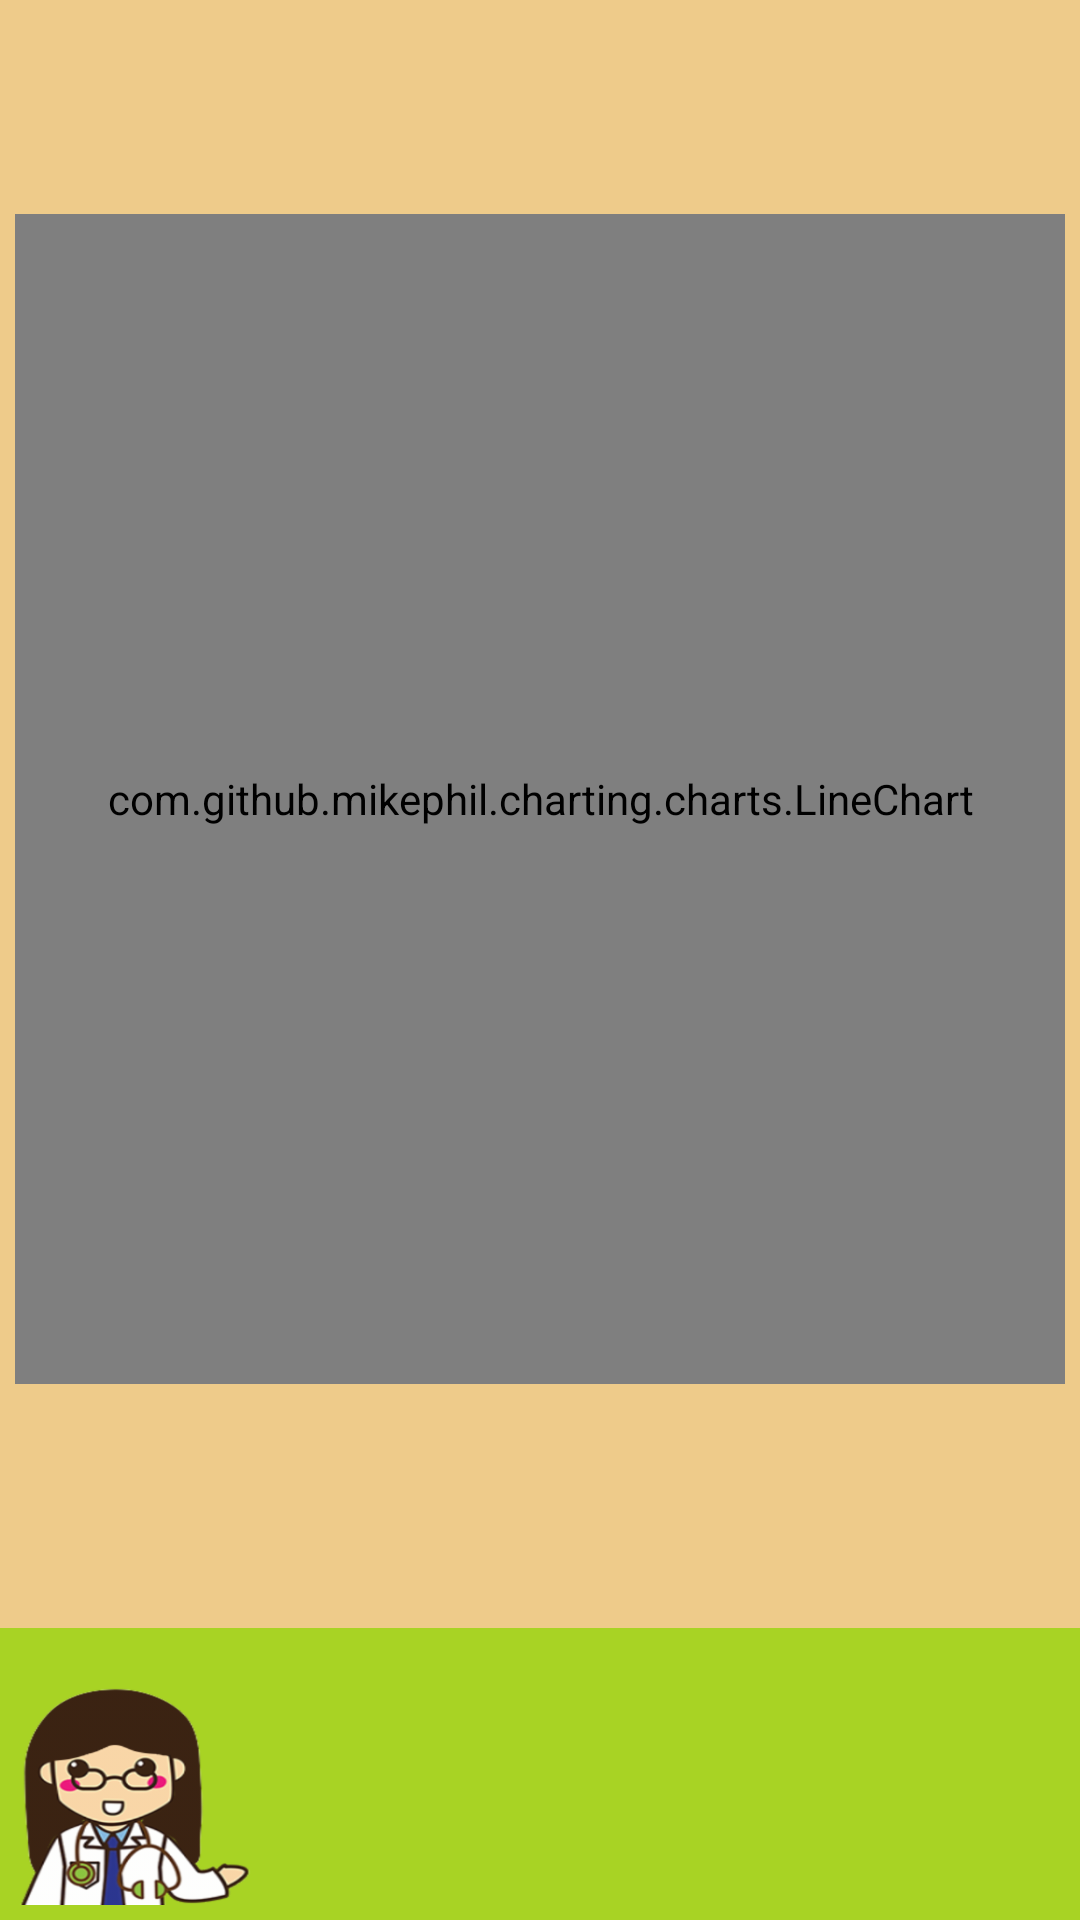

Screen size 1080x1920. Icon name, then its center in pixels as (x=x, y=y):
nurse: (x=135, y=1797)
